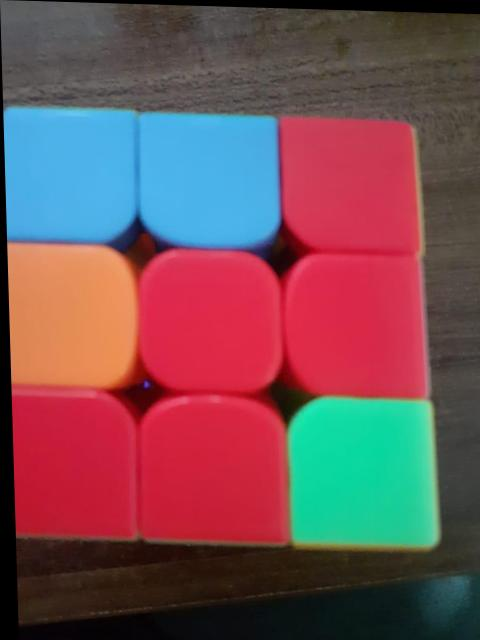Blue: (144, 113, 276, 244), (3, 113, 129, 238)
Green: (287, 393, 432, 545)
Orange: (6, 247, 131, 396)
Red: (140, 399, 288, 545), (284, 253, 427, 397), (138, 249, 279, 393), (281, 120, 426, 254), (9, 398, 135, 544)
